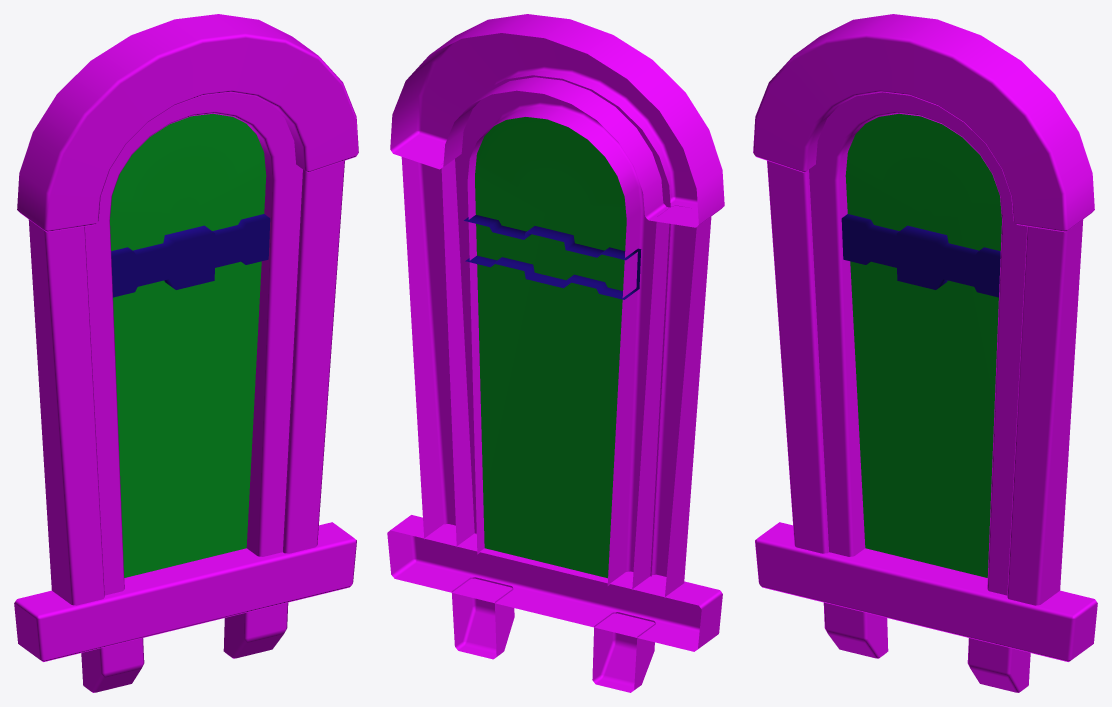
The model's file is Etage1_Facade_Fenetre_4x4x0_04_LOD001.FBX.
3 renders of one model, left to right at view 1: azimuth 30°, elevation 25°; view 2: azimuth 150°, elevation 25°; view 3: azimuth 330°, elevation 25°, orthographic. The views are drawn at different scales.
Parts seen in each view (by area): view 1: Etage1_Facade_Fenetre_4x4x0_04_LOD001; view 2: Etage1_Facade_Fenetre_4x4x0_04_LOD001; view 3: Etage1_Facade_Fenetre_4x4x0_04_LOD001.
Boxes of the visible parts, bbox=[...] form: Etage1_Facade_Fenetre_4x4x0_04_LOD001: bbox=[14, 14, 358, 692]; Etage1_Facade_Fenetre_4x4x0_04_LOD001: bbox=[387, 14, 724, 692]; Etage1_Facade_Fenetre_4x4x0_04_LOD001: bbox=[753, 14, 1097, 692].
Size of the model in its own units: 97.93 by 189 by 16.27.
